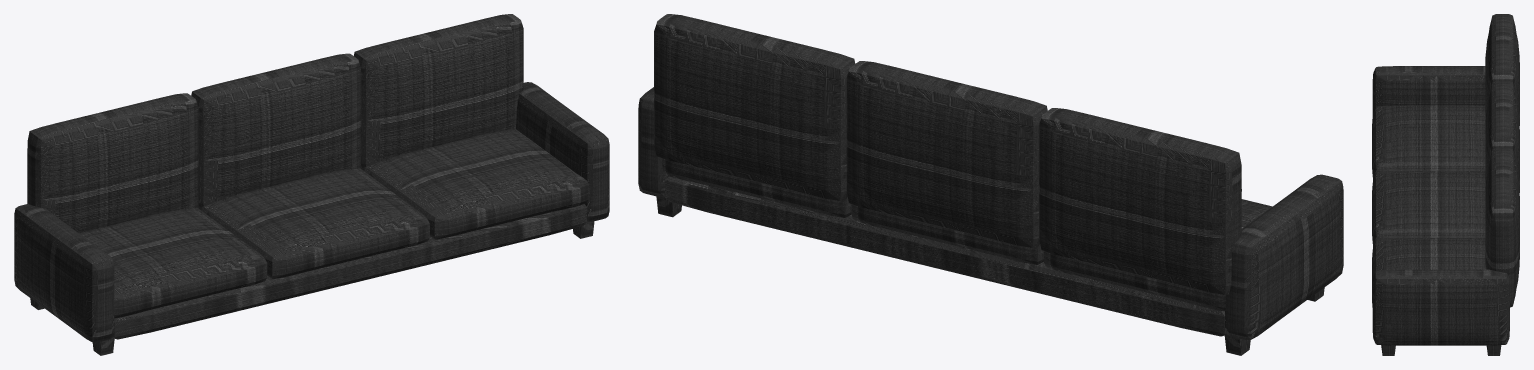
File: sillon.fbx
3 renders of one model, left to right at view 1: azimuth 30°, elevation 25°; view 2: azimuth 150°, elevation 25°; view 3: azimuth 270°, elevation 25°, orthographic. The views are drawn at different scales.
Parts seen in each view (by area): view 1: Sillon; view 2: Sillon; view 3: Sillon.
Boxes of the visible parts, left/top/right/bottom form: Sillon: left=14, top=14, right=609, bottom=355; Sillon: left=638, top=14, right=1343, bottom=355; Sillon: left=1372, top=14, right=1519, bottom=355.
Size of the model in its own units: 1037 by 323 by 299.
1 material, 1 textured.
